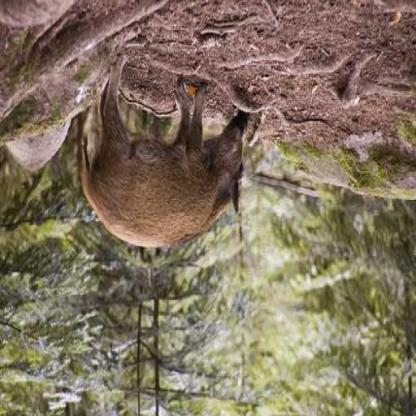boar: (56, 74, 285, 250)
